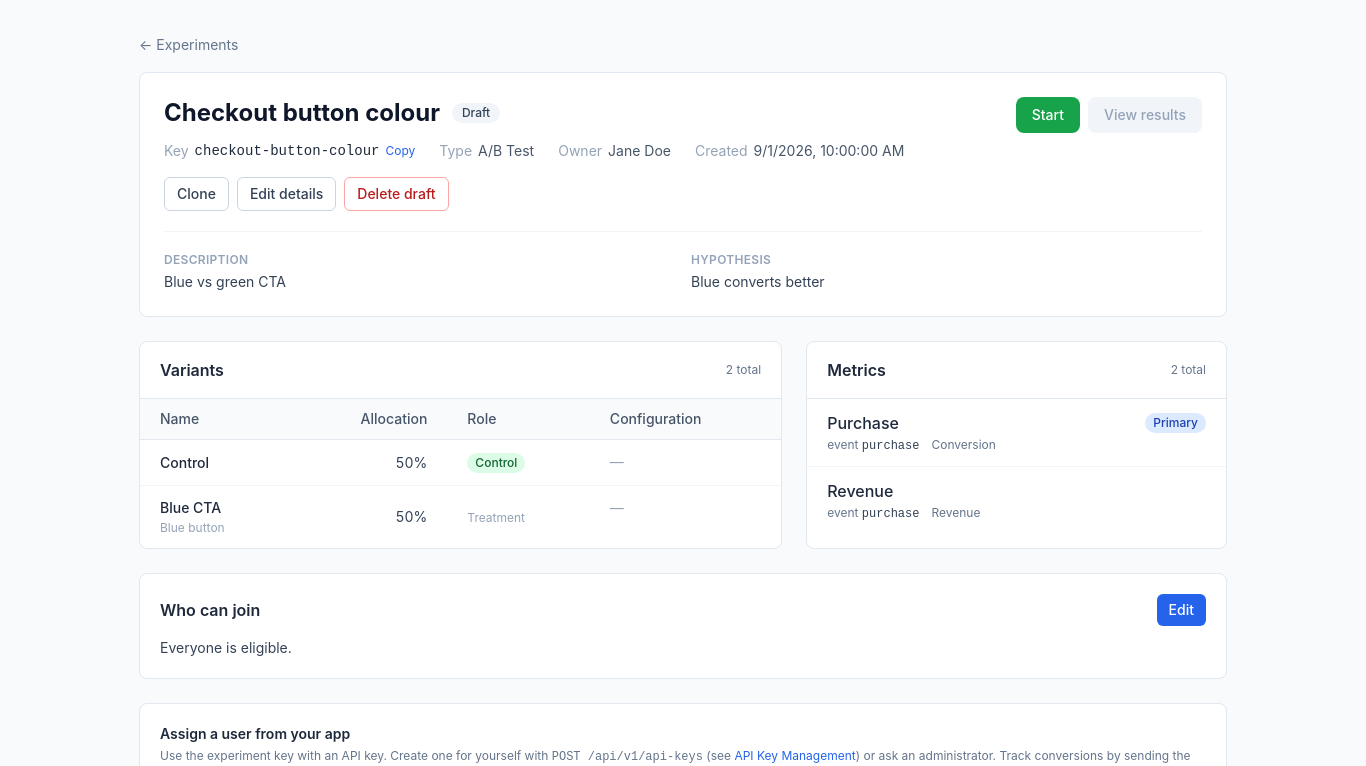
Test: ExperimentDetailPage — the owner's name (#921) › shows "No owner" when a change answers that the owner's account was removed
Click the button with test id "action-start".
click(1048, 115)  # box x1=1016 y1=97 x2=1080 y2=133
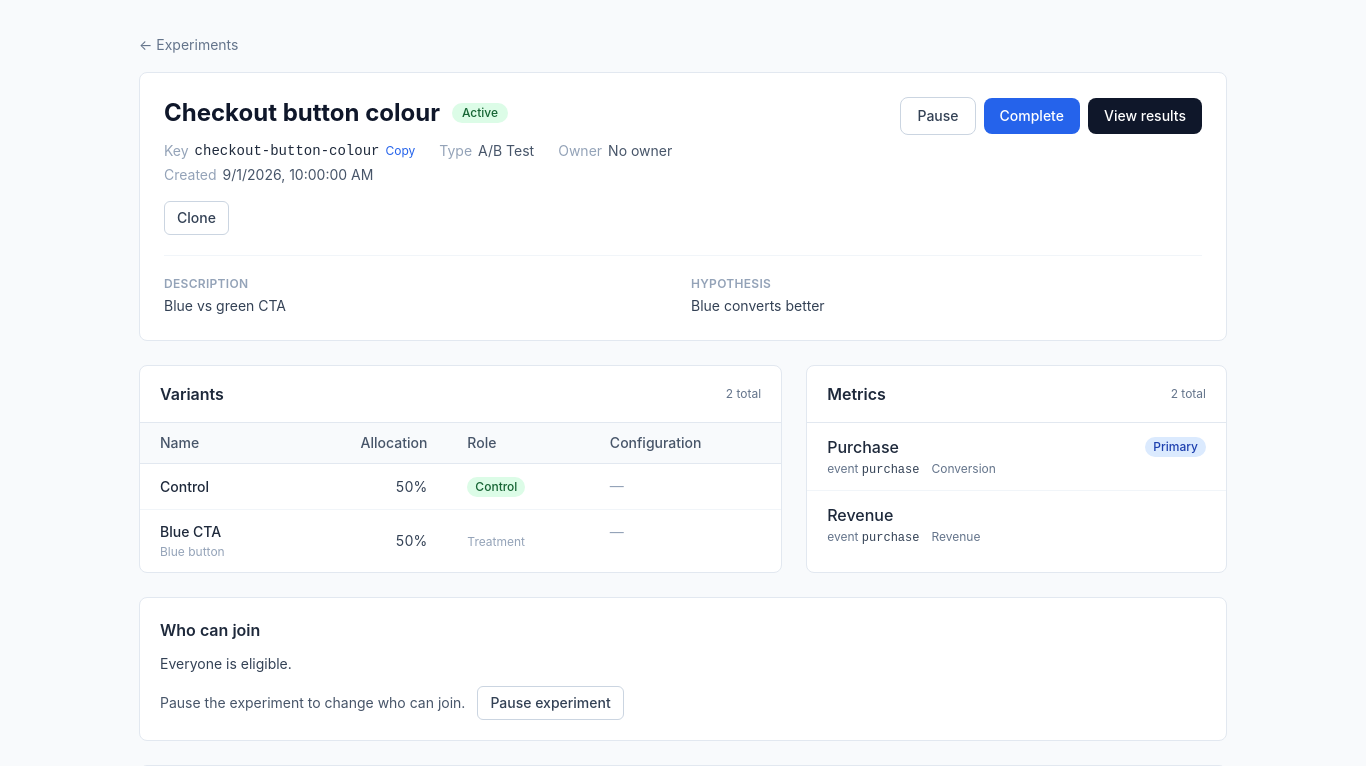
Now the text with test id "experiment-status" reads "Active", box x1=462 y1=105 x2=498 y2=120
Now the text with test id "experiment-owner" reads "No owner", box x1=608 y1=142 x2=672 y2=159
